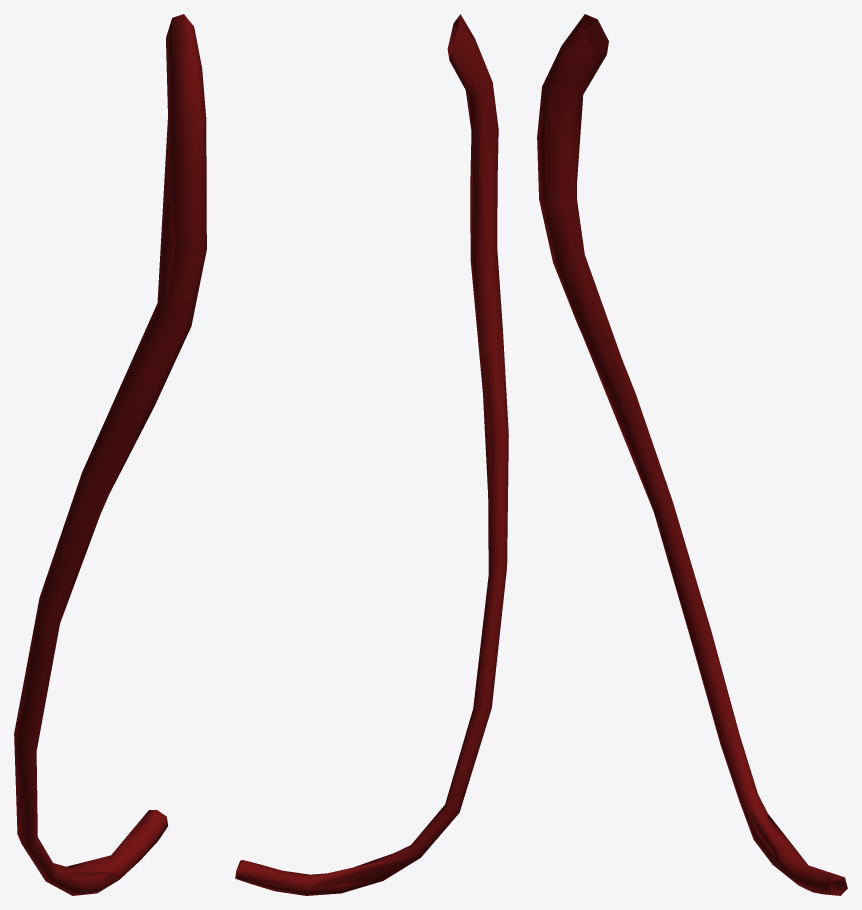
File: L radialis.fbx
3 renders of one model, left to right at view 1: azimuth 30°, elevation 25°; view 2: azimuth 150°, elevation 25°; view 3: azimuth 270°, elevation 25°, orthographic. The views are drawn at different scales.
Visible parts, largest first — view 1: L radialis, L radialis low; view 2: L radialis, L radialis low; view 3: L radialis, L radialis low.
Part boxes in pixels (bbox=[...]): L radialis: bbox=[14, 14, 206, 895]; L radialis low: bbox=[31, 14, 206, 889]; L radialis: bbox=[235, 15, 508, 895]; L radialis low: bbox=[235, 14, 501, 888]; L radialis: bbox=[537, 14, 847, 895]; L radialis low: bbox=[547, 19, 847, 895].
Size of the model in its own units: 2.75 by 11.2 by 3.73.
